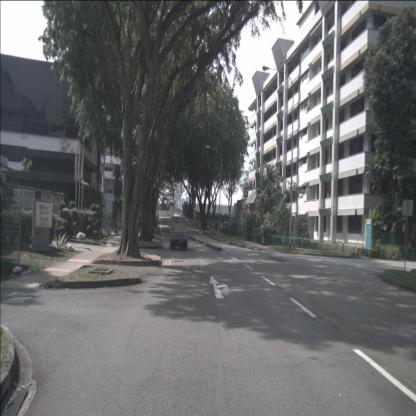cone: (294, 239, 296, 250)
